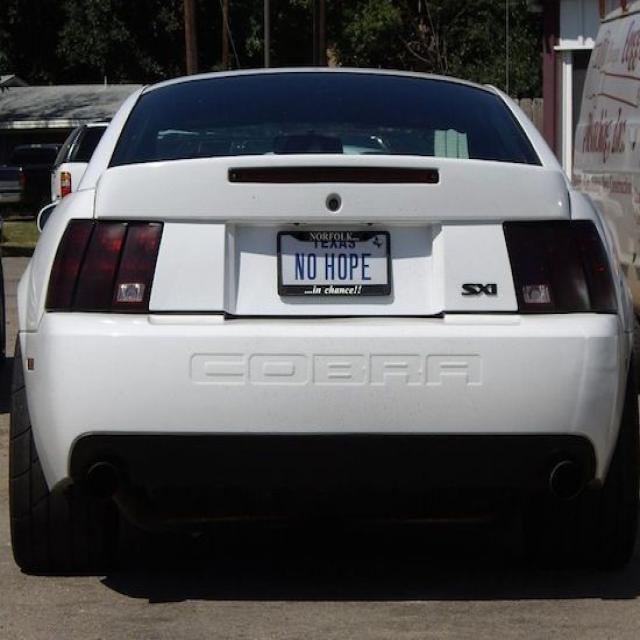Placas: (275, 224, 393, 302)
